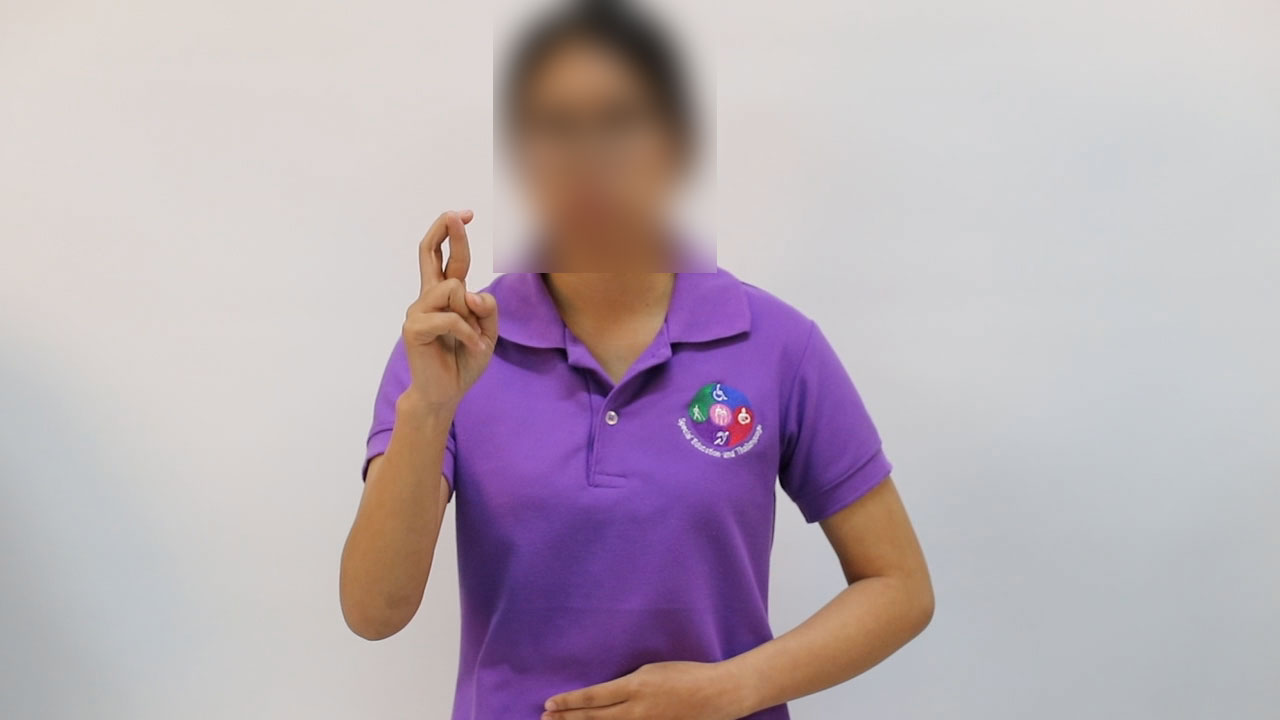rao: (380, 201, 505, 412)
